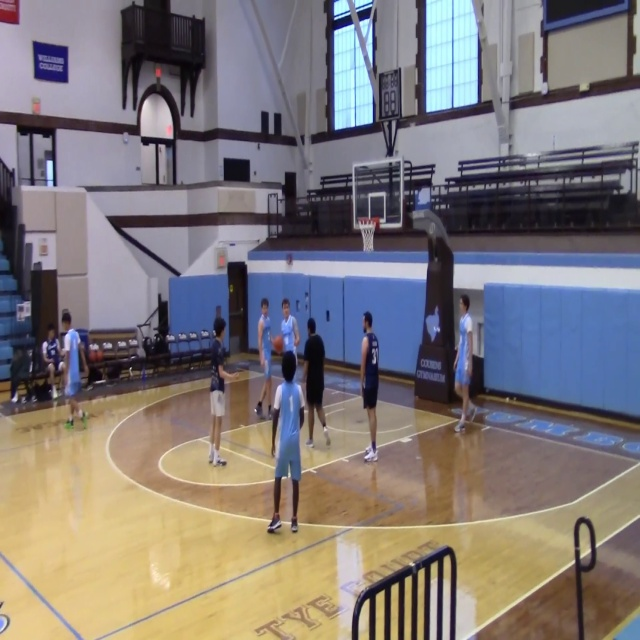Basketball: (271, 335, 284, 354)
